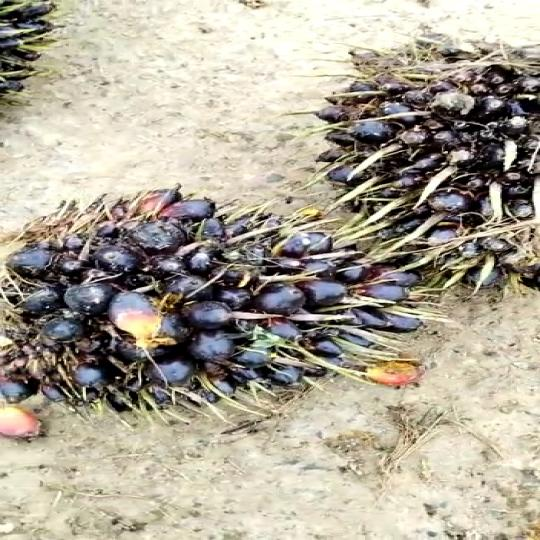mentah: (0, 184, 434, 409), (291, 45, 540, 278)
